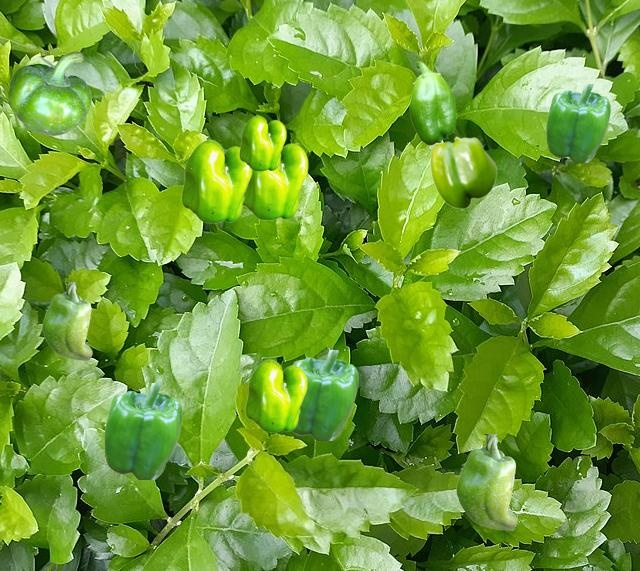bell_pepper: (104, 383, 181, 478), (8, 51, 90, 134), (181, 139, 251, 222), (292, 350, 357, 439), (456, 434, 516, 529), (244, 142, 307, 219), (546, 84, 609, 161), (430, 136, 496, 208), (245, 359, 306, 431), (409, 61, 455, 144), (42, 282, 91, 359), (239, 115, 285, 170)
